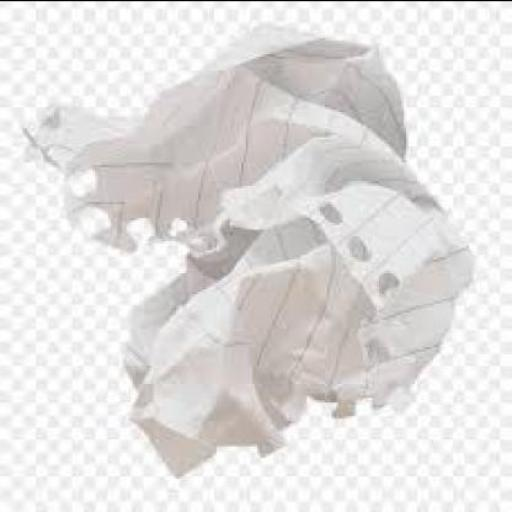paper: (18, 24, 472, 478)
